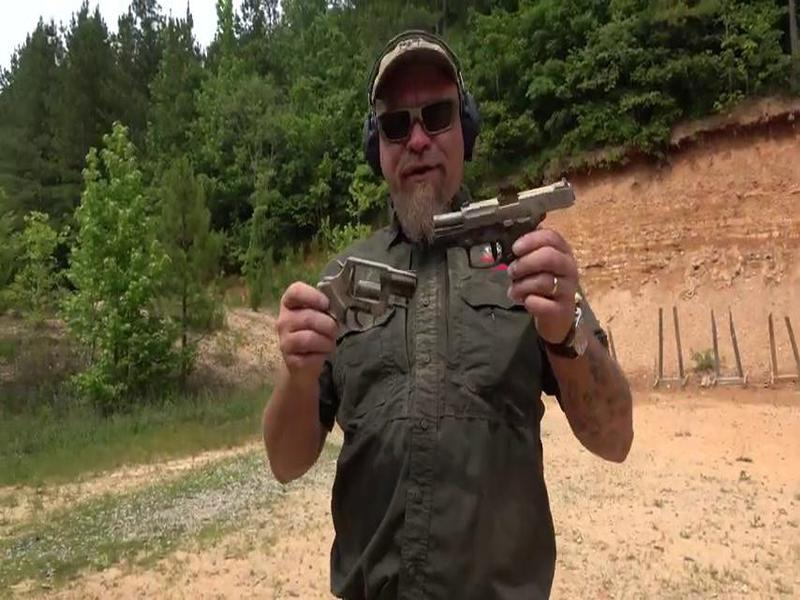Pistola: (427, 171, 597, 313)
Revolver: (288, 238, 421, 376)
